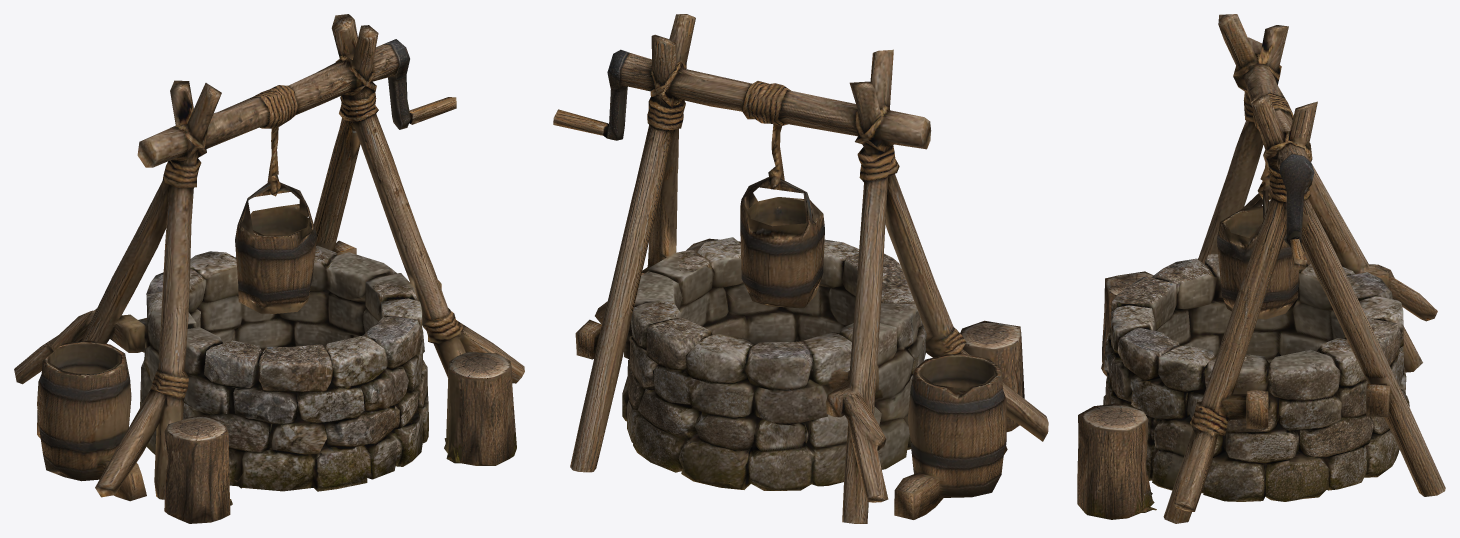
The model's file is tripo_convert_72f7c550-c77b-42d7-aad9-cc76f0e1fe62.fbx.
The picture shows the model from 3 angles, left to right: view 1: azimuth 30°, elevation 25°; view 2: azimuth 150°, elevation 25°; view 3: azimuth 270°, elevation 25°; orthographic projection. The views are drawn at different scales.
Visible parts, largest first — view 1: tripo_node_72f7c550; view 2: tripo_node_72f7c550; view 3: tripo_node_72f7c550.
Part boxes in pixels (box(x1,y1,x2,y2)): tripo_node_72f7c550: box(14, 14, 524, 523); tripo_node_72f7c550: box(553, 14, 1048, 523); tripo_node_72f7c550: box(1077, 14, 1445, 523).
Bounding box in the file's own units: 0.9806 × 0.8274 × 0.7071.
Materials: 1 (1 with a texture image).
